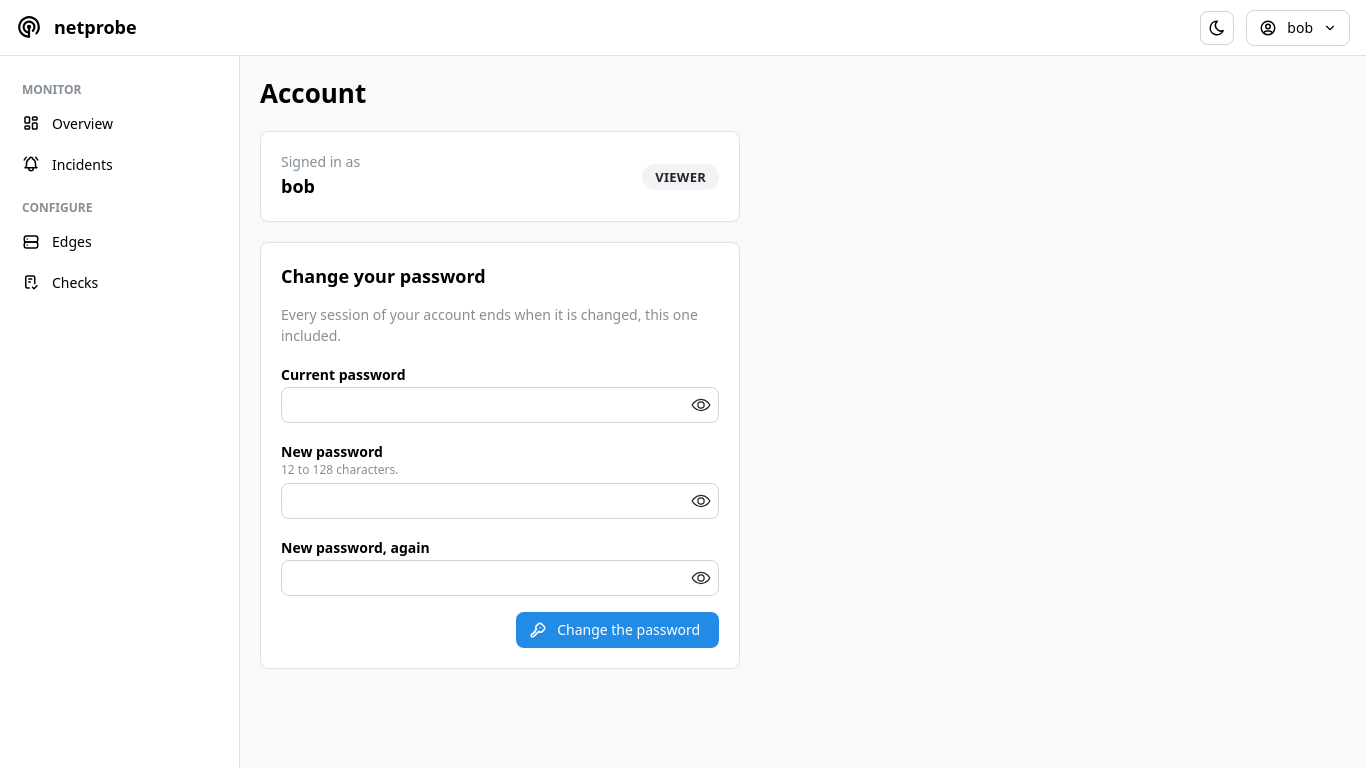
Scenario: the account › changes the password, then signs in again because every session ended
Type "the old password" into the password field labelled "Current password" at (500,405), box left=282, top=388, right=718, bottom=422
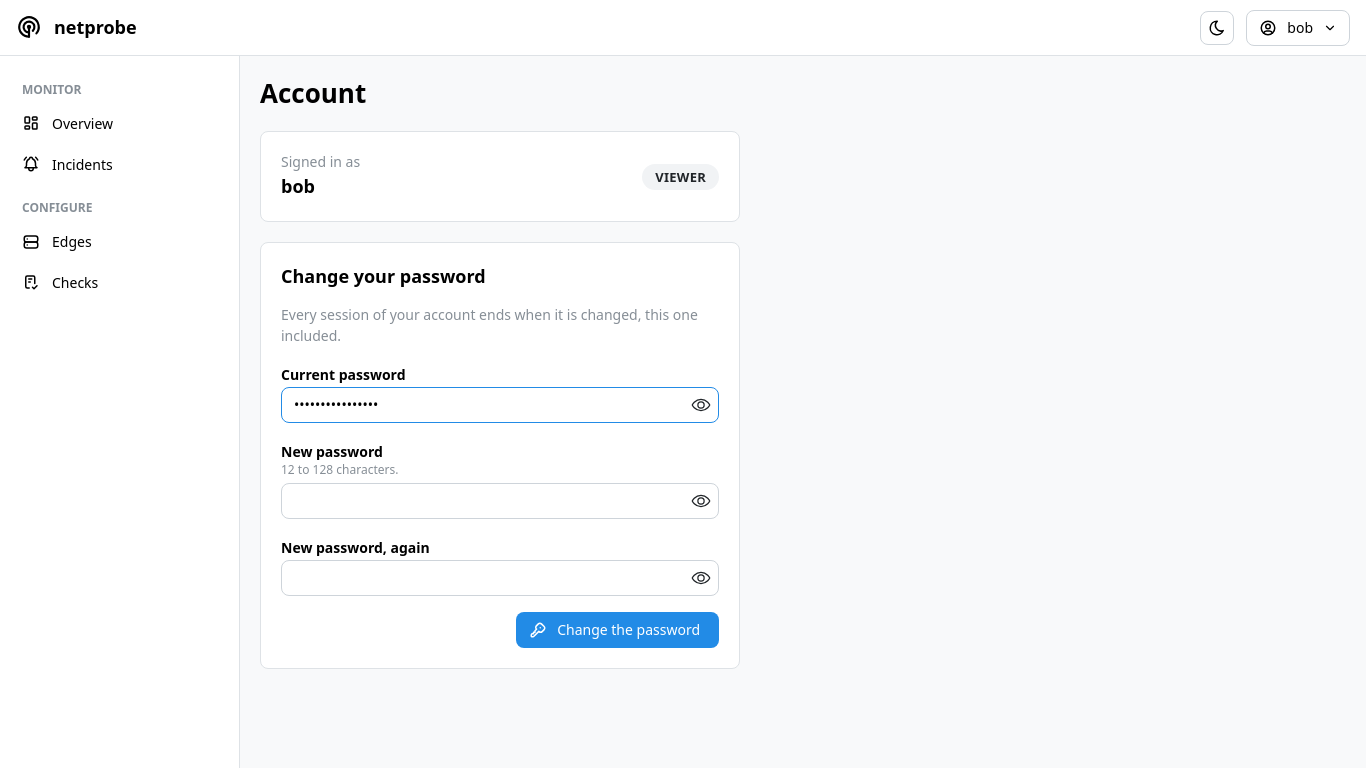
Type "a brand new password" into the password field labelled "New password" at (500,501), box left=282, top=484, right=718, bottom=518
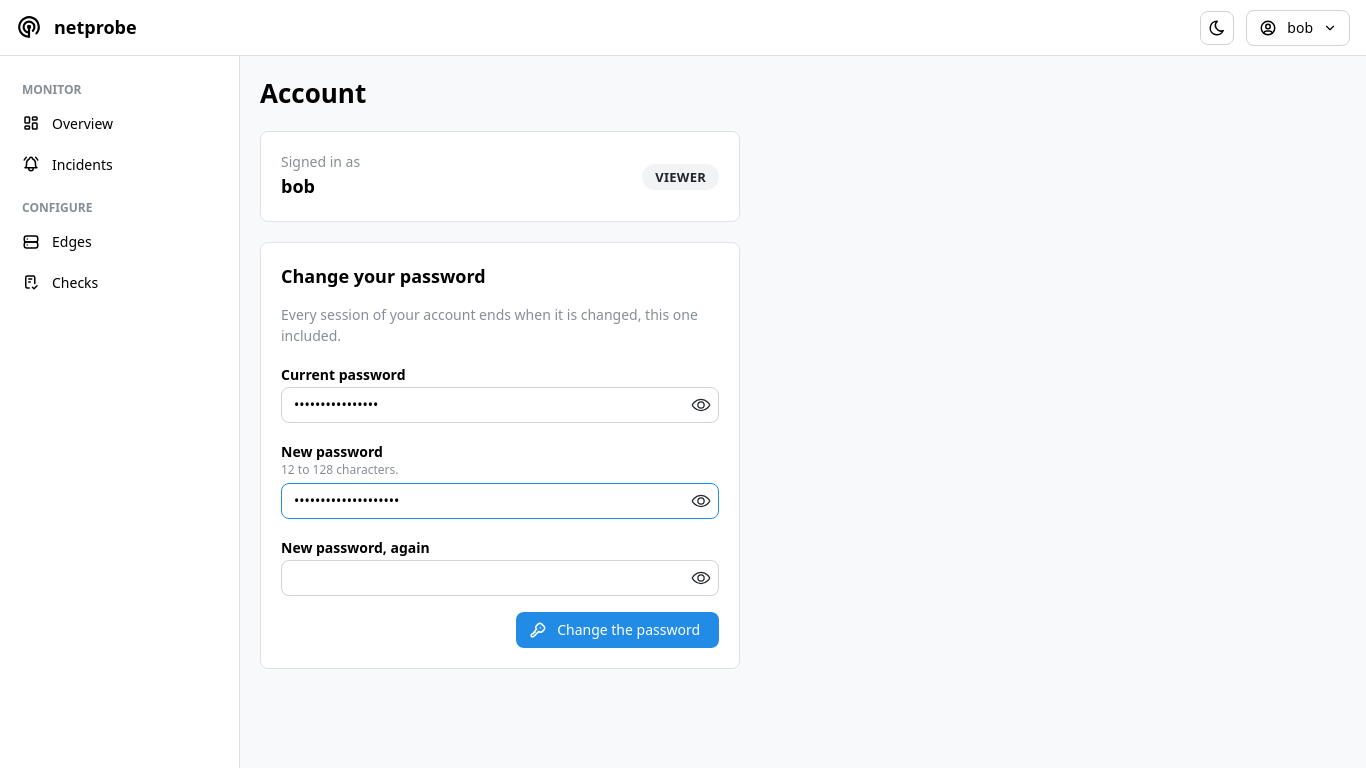
Type "a brand new password" into the password field labelled "New password, again" at (500,578), box left=282, top=561, right=718, bottom=595
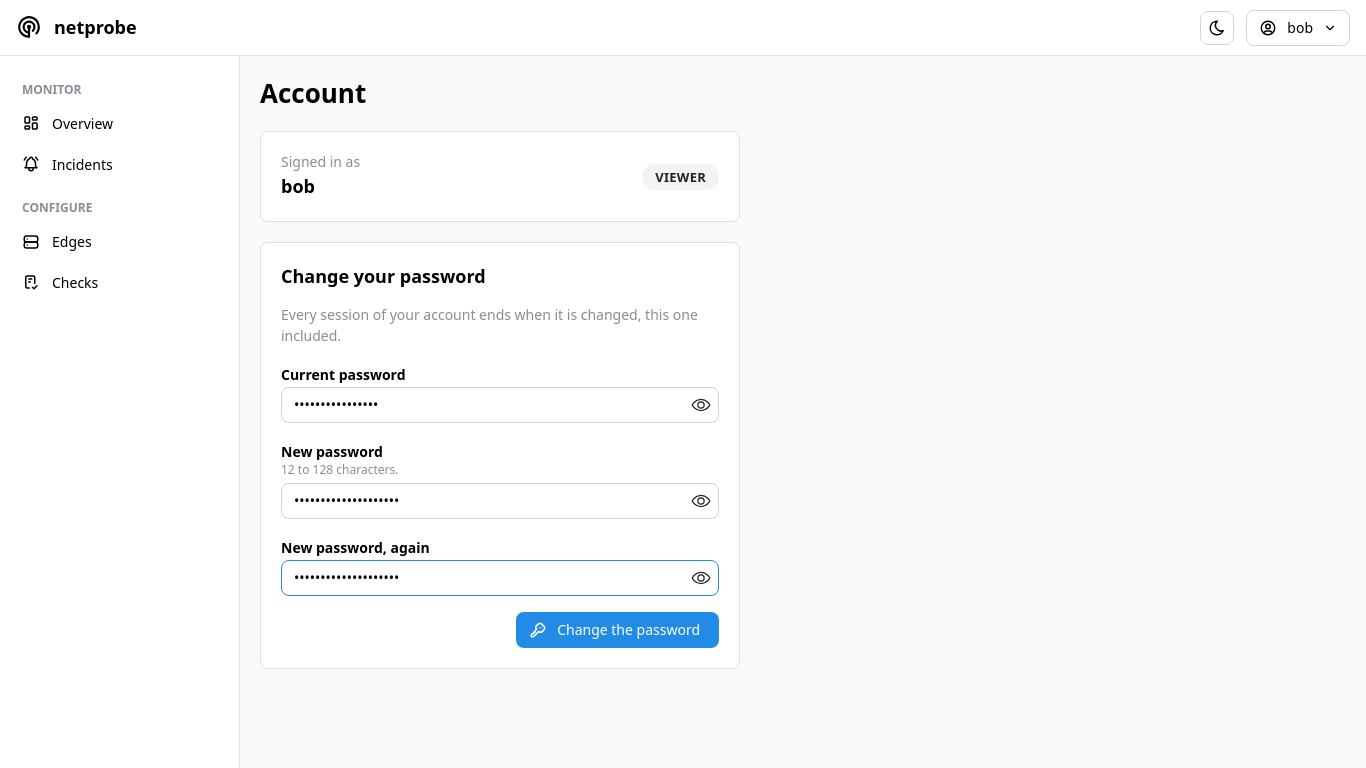
Click the button "Change the password" at (618,630), box left=516, top=612, right=719, bottom=648
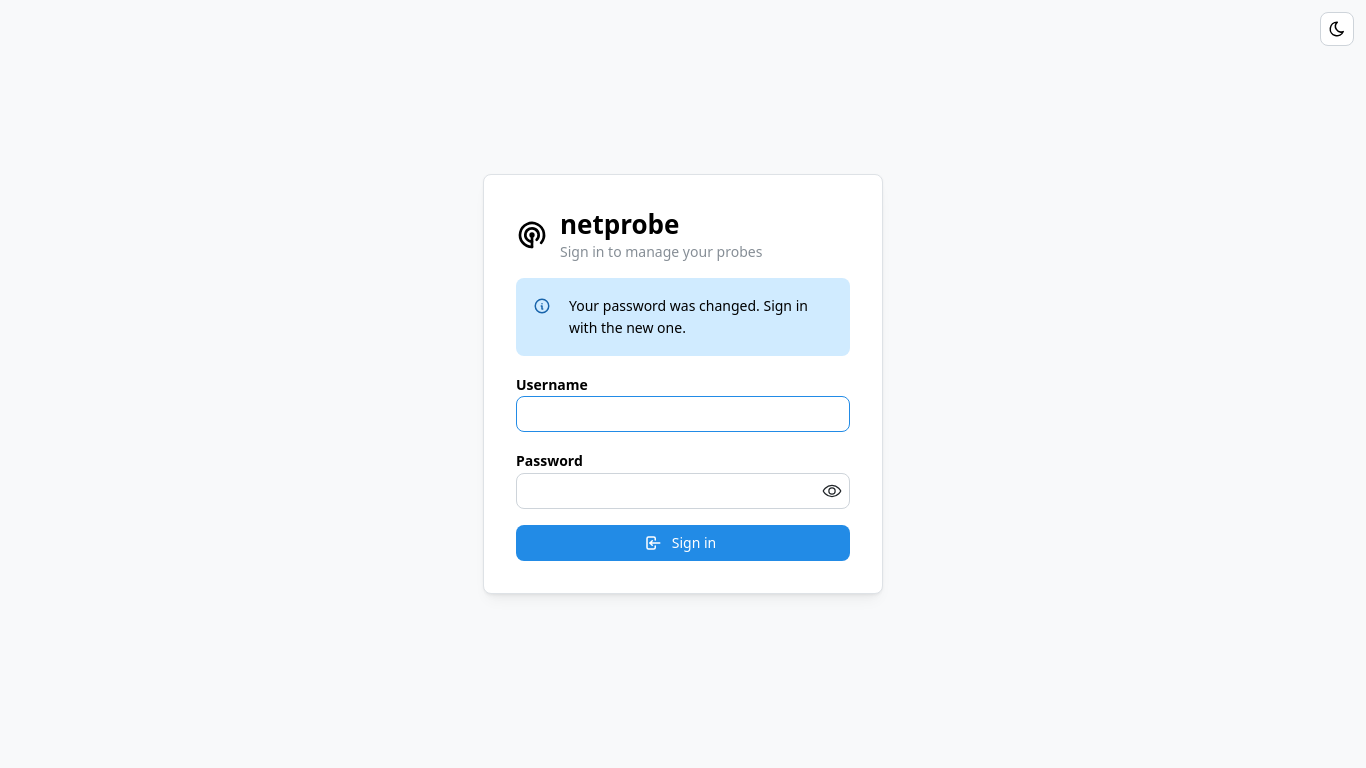
Result: the text "Your password was changed. Sign in with the new one." is shown at left=569, top=295, right=833, bottom=339
Result: the button "Sign in" is shown at left=516, top=525, right=850, bottom=561
